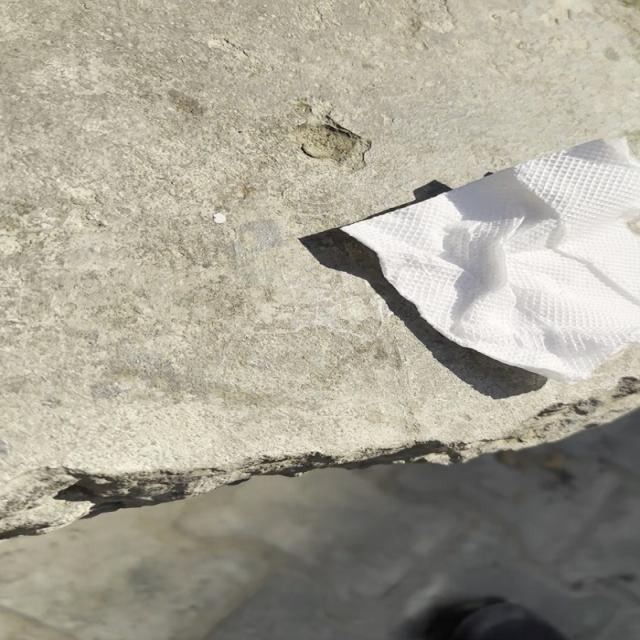tissue: (342, 140, 640, 386)
